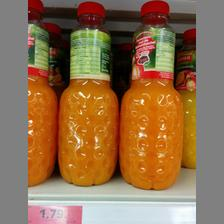Saft: (116, 0, 183, 190), (58, 0, 118, 186)
